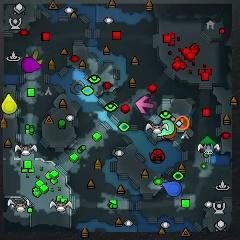Other: (176, 115, 190, 130)
p1: (161, 181, 182, 198)
p2: (156, 120, 175, 136)
p3: (21, 58, 40, 72)
p4: (2, 92, 18, 114)
p5: (163, 127, 177, 140)
x1: (135, 95, 153, 112)
x2: (25, 50, 43, 64)
x4: (198, 135, 216, 158)
